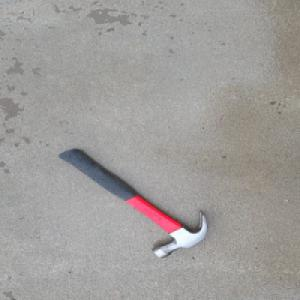Hammer: (58, 145, 215, 267)
